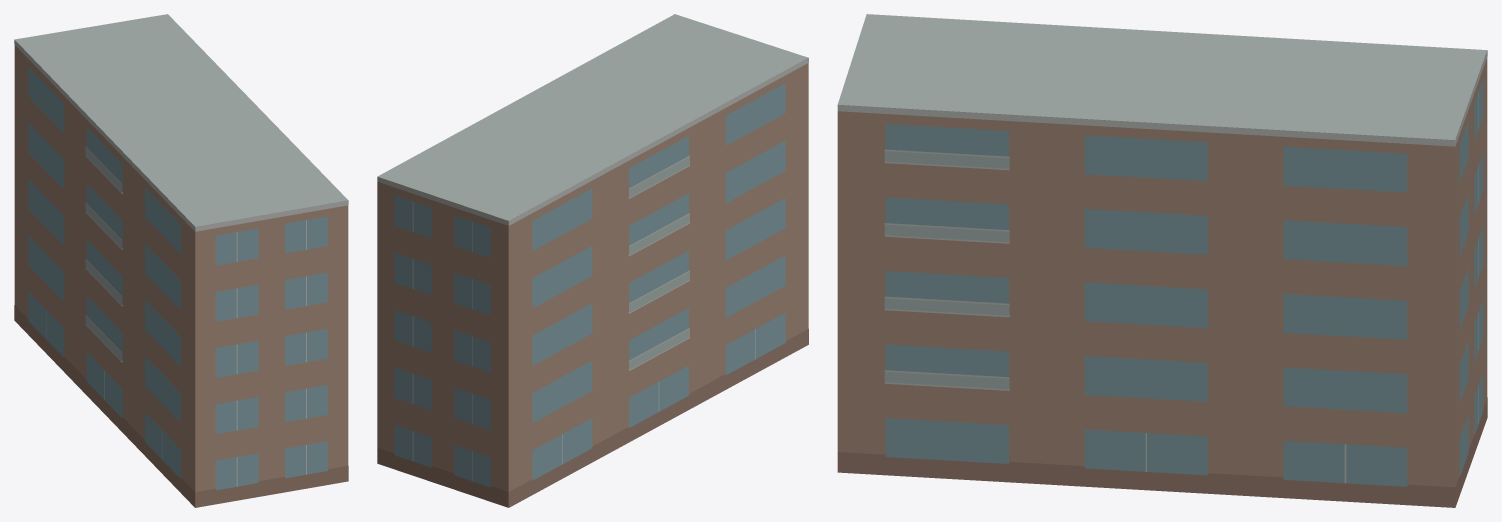
The model's file is survey-upis-32992844.glb.
The picture shows the model from 3 angles, left to right: view 1: azimuth 30°, elevation 25°; view 2: azimuth 150°, elevation 25°; view 3: azimuth 270°, elevation 25°; orthographic projection. The views are drawn at different scales.
Parts seen in each view (by area): view 1: survey-upis-32992844.tmp; view 2: survey-upis-32992844.tmp; view 3: survey-upis-32992844.tmp.
Boxes of the visible parts, x1=… form: survey-upis-32992844.tmp: x1=14, y1=14, x2=348, y2=507; survey-upis-32992844.tmp: x1=377, y1=14, x2=808, y2=507; survey-upis-32992844.tmp: x1=837, y1=14, x2=1487, y2=507.
Bounding box in the file's own units: 10.24 × 13.9 × 22.28.
